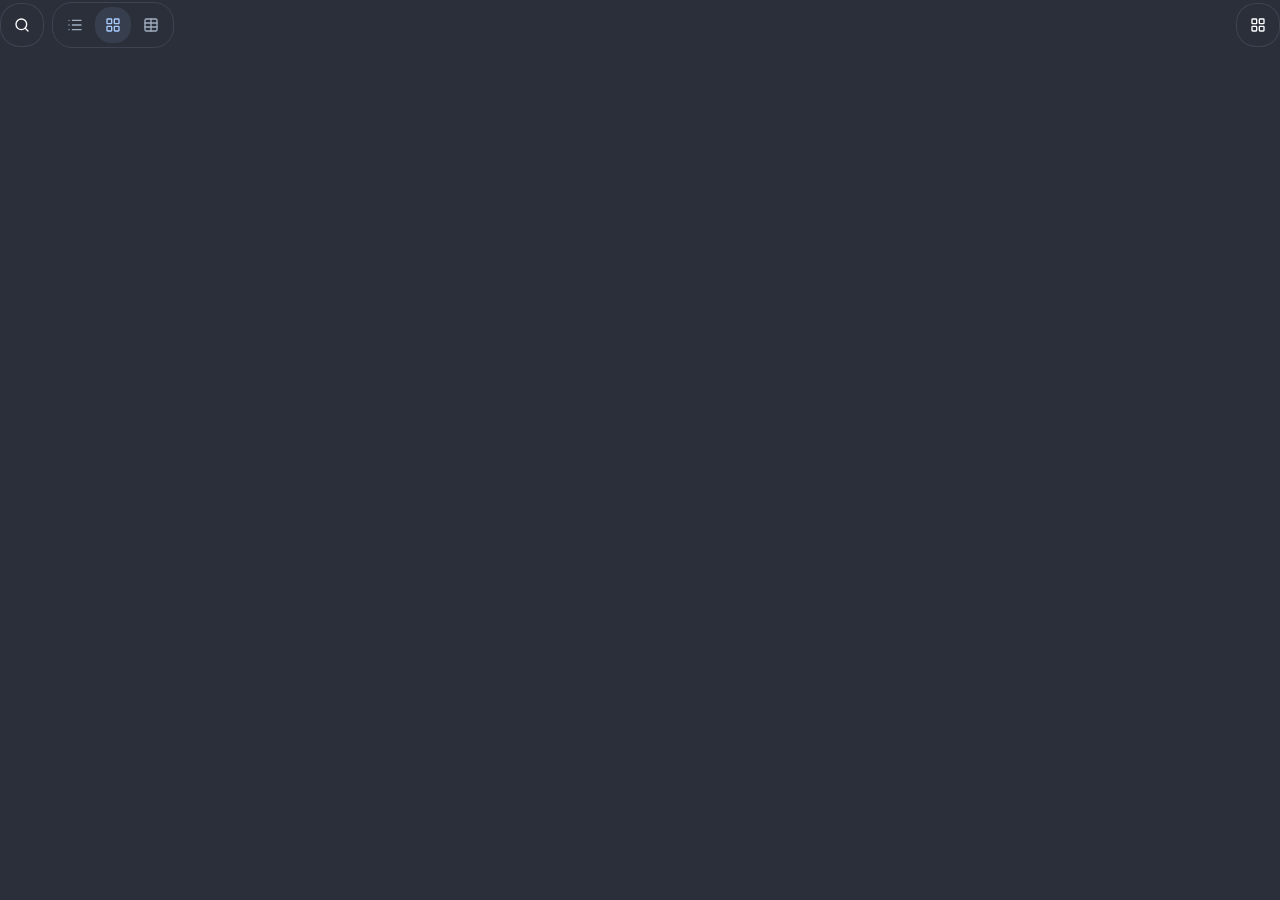
Test: TaskToolbar › only keeps Search or Group by open at a time, not both
This screenshot has width=1280, height=900.
Click the button named "Search" at (22, 25), box [0,3,44,47]
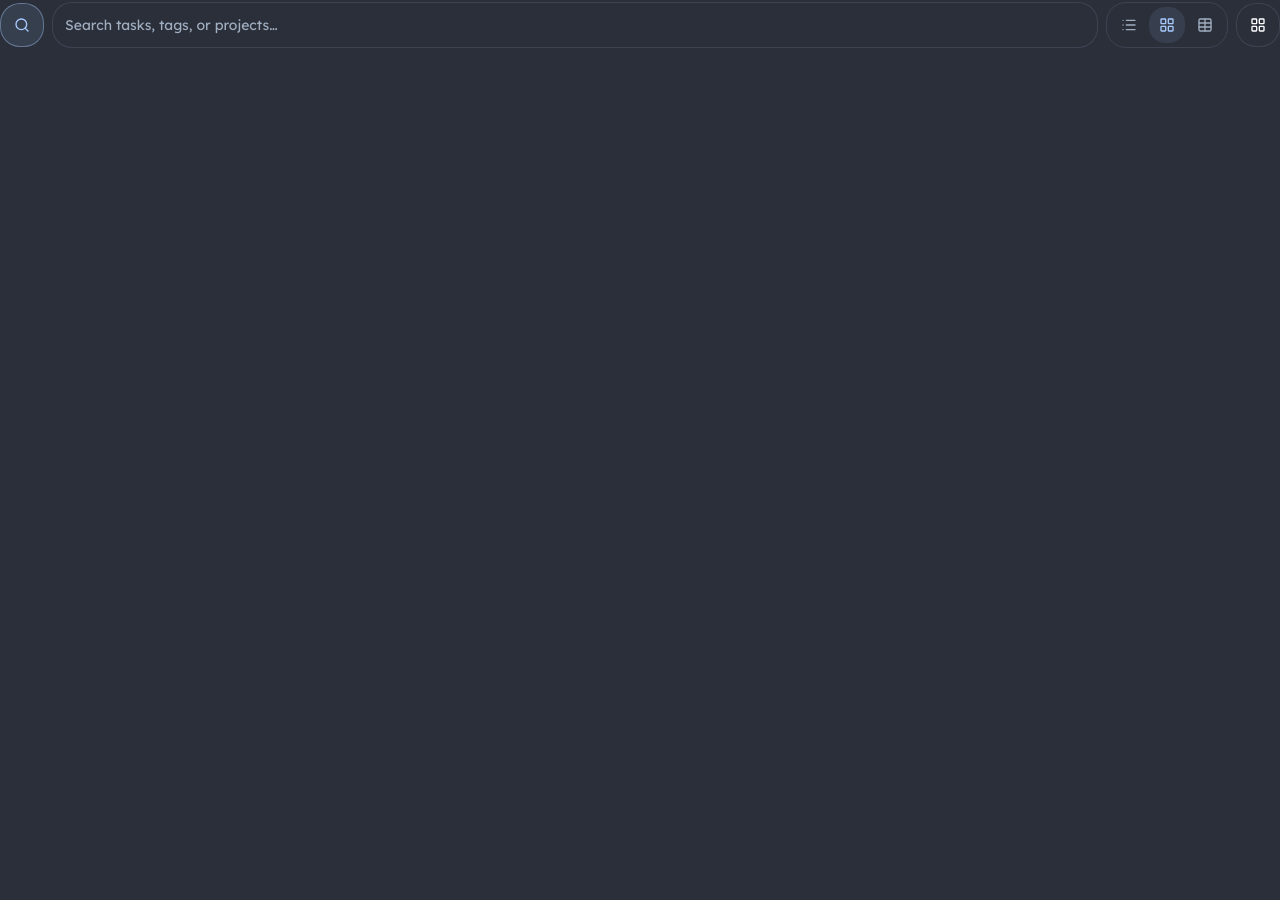
expect the button named "Search" is expanded: met, box [0,3,44,47]
Opening Group by collapses Search.
Click the button named "Group by" at (1258, 25), box [1236,3,1279,47]
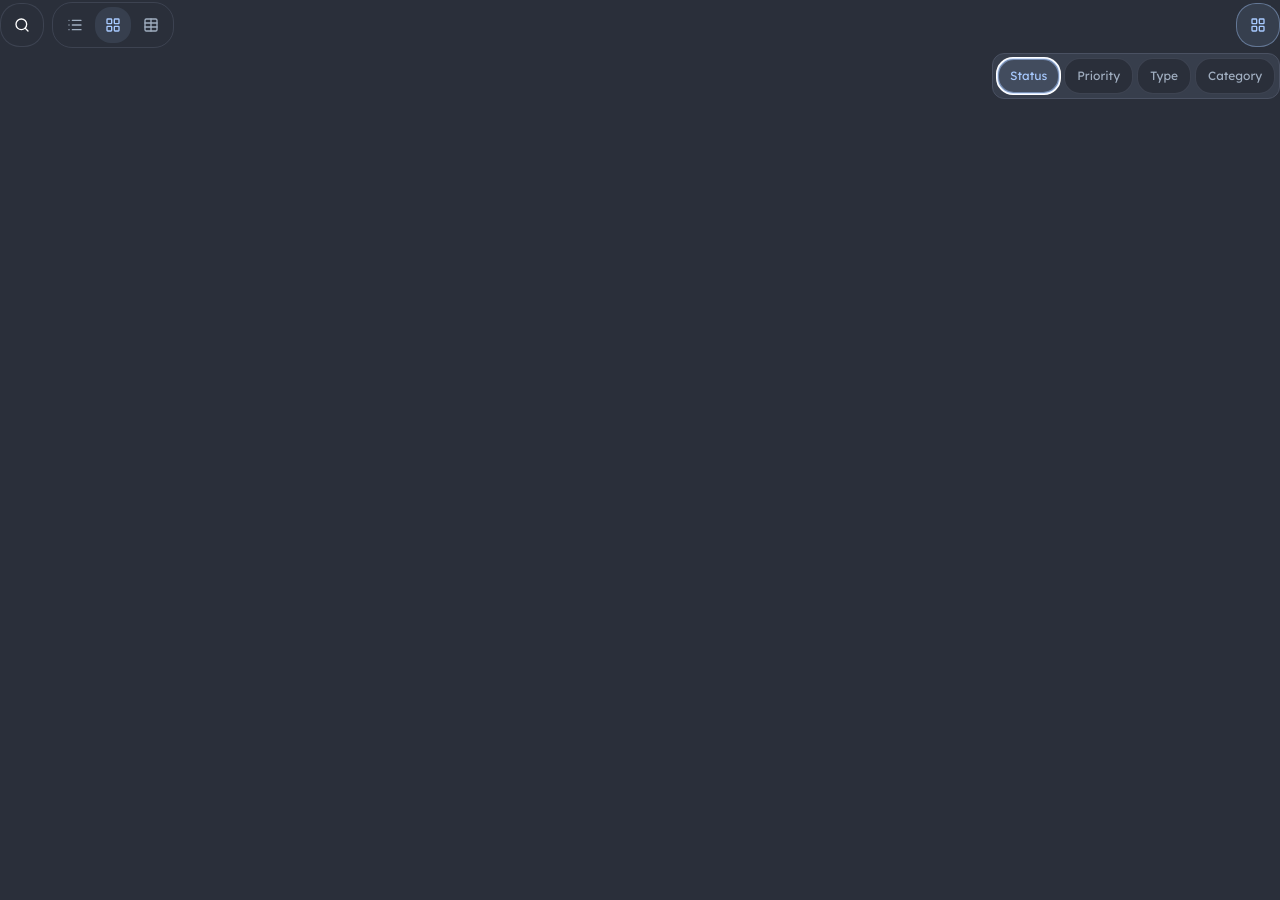
expect the button named "Search" is collapsed: met, box [0,3,44,47]
expect the button named "Group by" is expanded: met, box [1236,3,1279,47]
